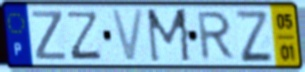M: (145, 7, 194, 65)
R: (196, 10, 237, 63)
V: (108, 7, 147, 64)
Z: (232, 8, 275, 64), (30, 9, 69, 63), (66, 9, 103, 62)
